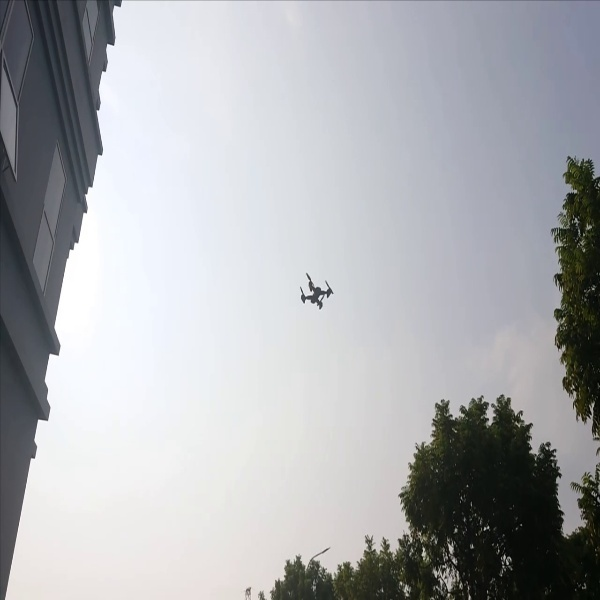drone: (293, 267, 338, 313)
